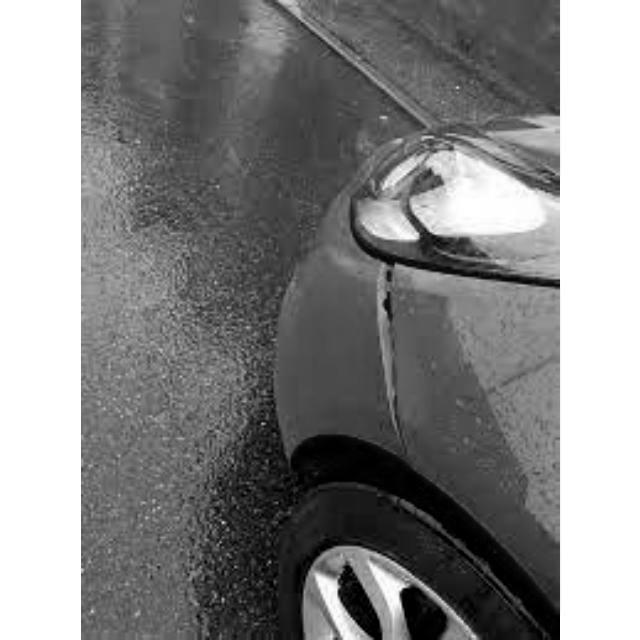front-bumper-dent: (260, 161, 470, 561)
